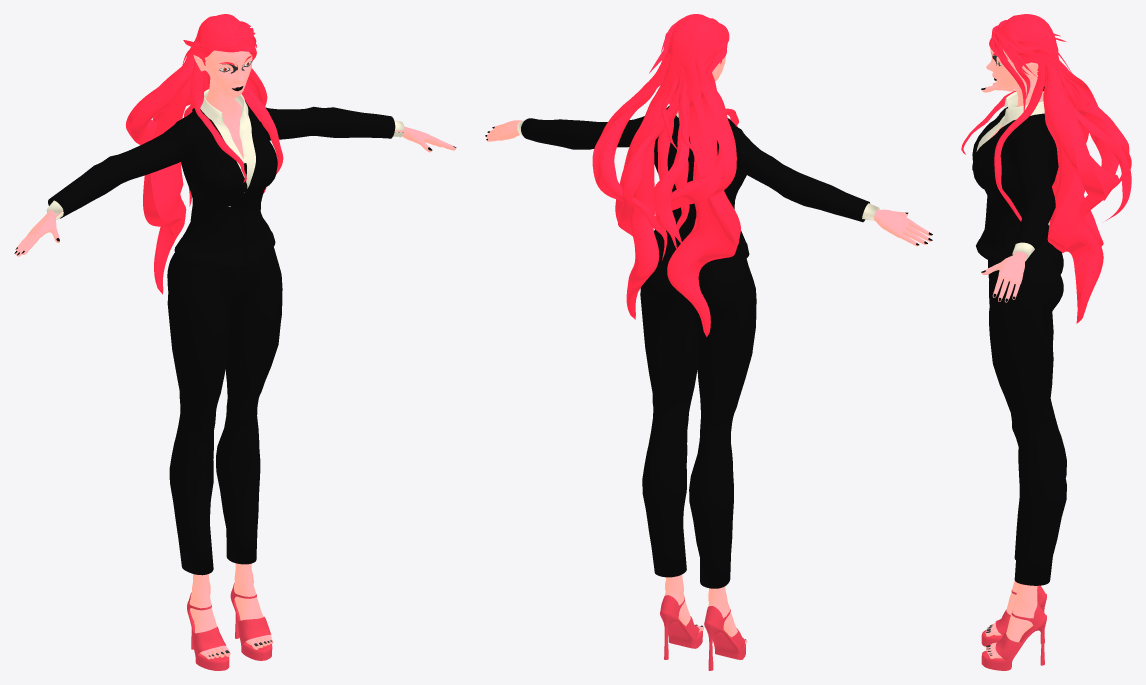
Rendered from Untitlessssd.glb.
The picture shows the model from 3 angles, left to right: view 1: azimuth 30°, elevation 25°; view 2: azimuth 150°, elevation 25°; view 3: azimuth 270°, elevation 25°; orthographic projection.
Parts seen in each view (by area): view 1: pant, suit, side1, Cube.011, heel, Cube.006; view 2: pant, side1, suit, Cube.011, heel; view 3: side1, pant, suit, Cube.011, heel, Cube.006.
Part boxes in pixels (<box>): pant: <box>167,247,282,575</box>; suit: <box>48,100,395,266</box>; side1: <box>126,14,283,294</box>; Cube.011: <box>14,26,456,659</box>; heel: <box>187,582,272,670</box>; Cube.006: <box>46,89,404,220</box>; pant: <box>640,253,756,588</box>; side1: <box>592,14,740,336</box>; suit: <box>521,105,869,265</box>; Cube.011: <box>485,56,932,643</box>; heel: <box>660,595,745,670</box>; side1: <box>961,14,1131,323</box>; pant: <box>988,250,1066,585</box>; suit: <box>972,86,1058,269</box>; Cube.011: <box>981,21,1043,658</box>; heel: <box>981,585,1046,670</box>; Cube.006: <box>976,89,1044,261</box>.
Bounding box in the file's own units: 9.57 × 13.15 × 3.19.
10 materials, 6 textured.
